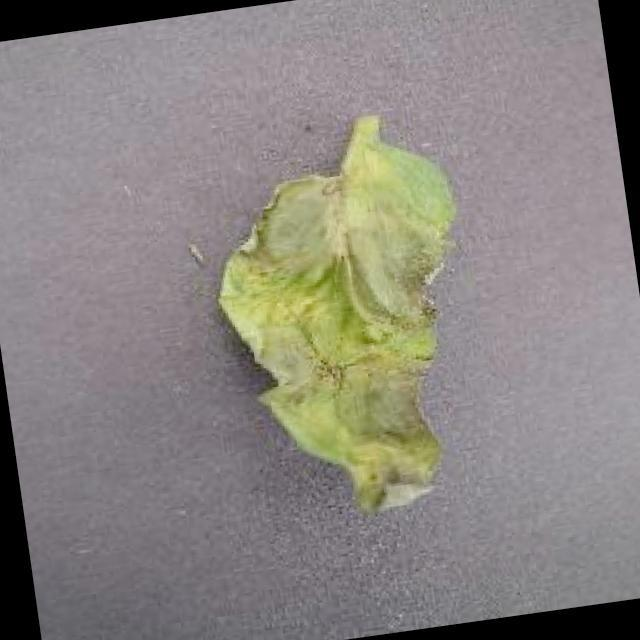Tomato late blight leaf: (199, 132, 498, 533)
